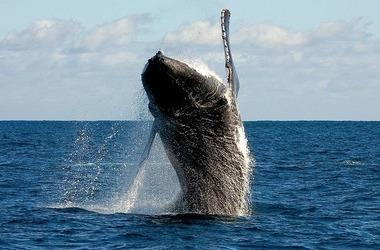fish: (116, 8, 261, 220)
